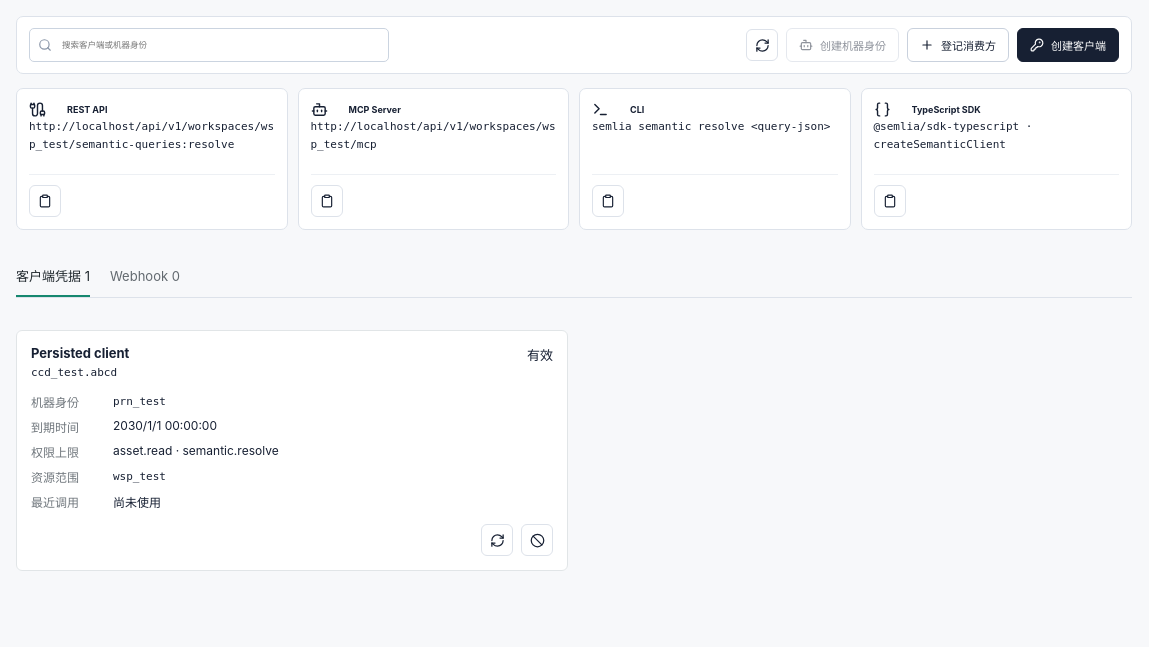
Test case: persisted integration settings › prevents duplicate pending mutations and does not reopen a dismissed secret
Double-click the button named "轮换 Persisted client 的凭据" at (497, 540), box [481,524,513,556]
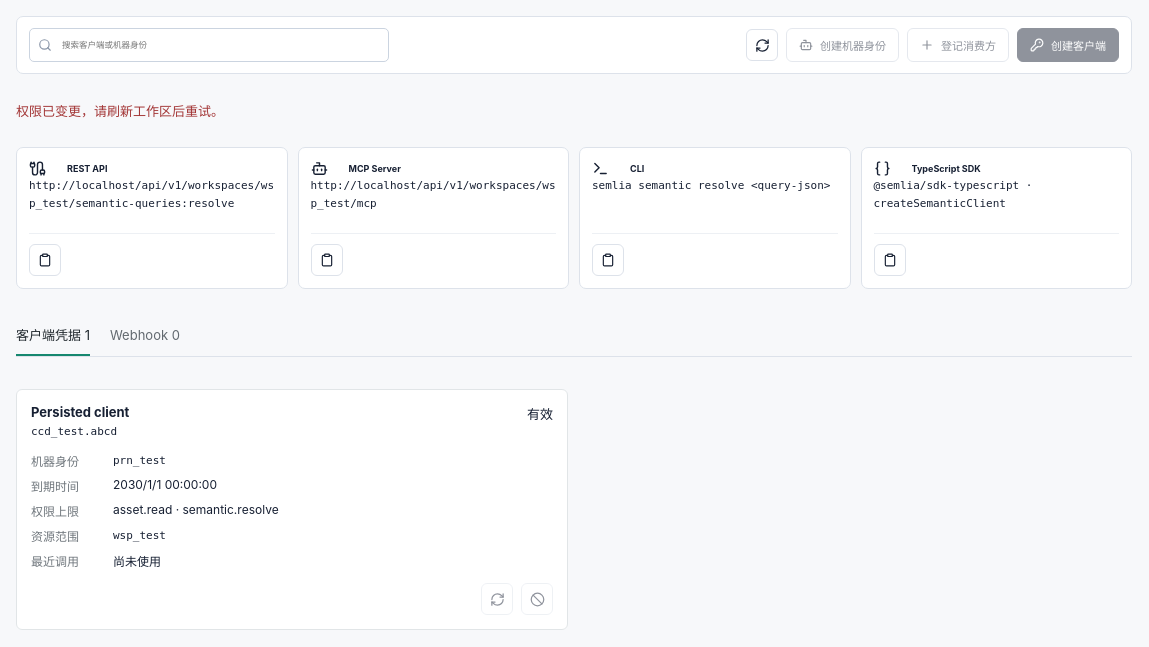
Now the button named "轮换 Persisted client 的凭据" is disabled, box [481,583,513,615]
